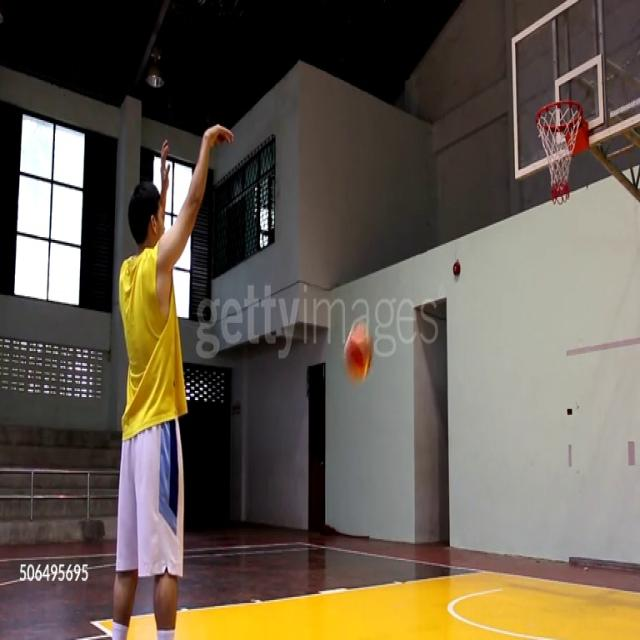ball: (342, 318, 375, 384)
